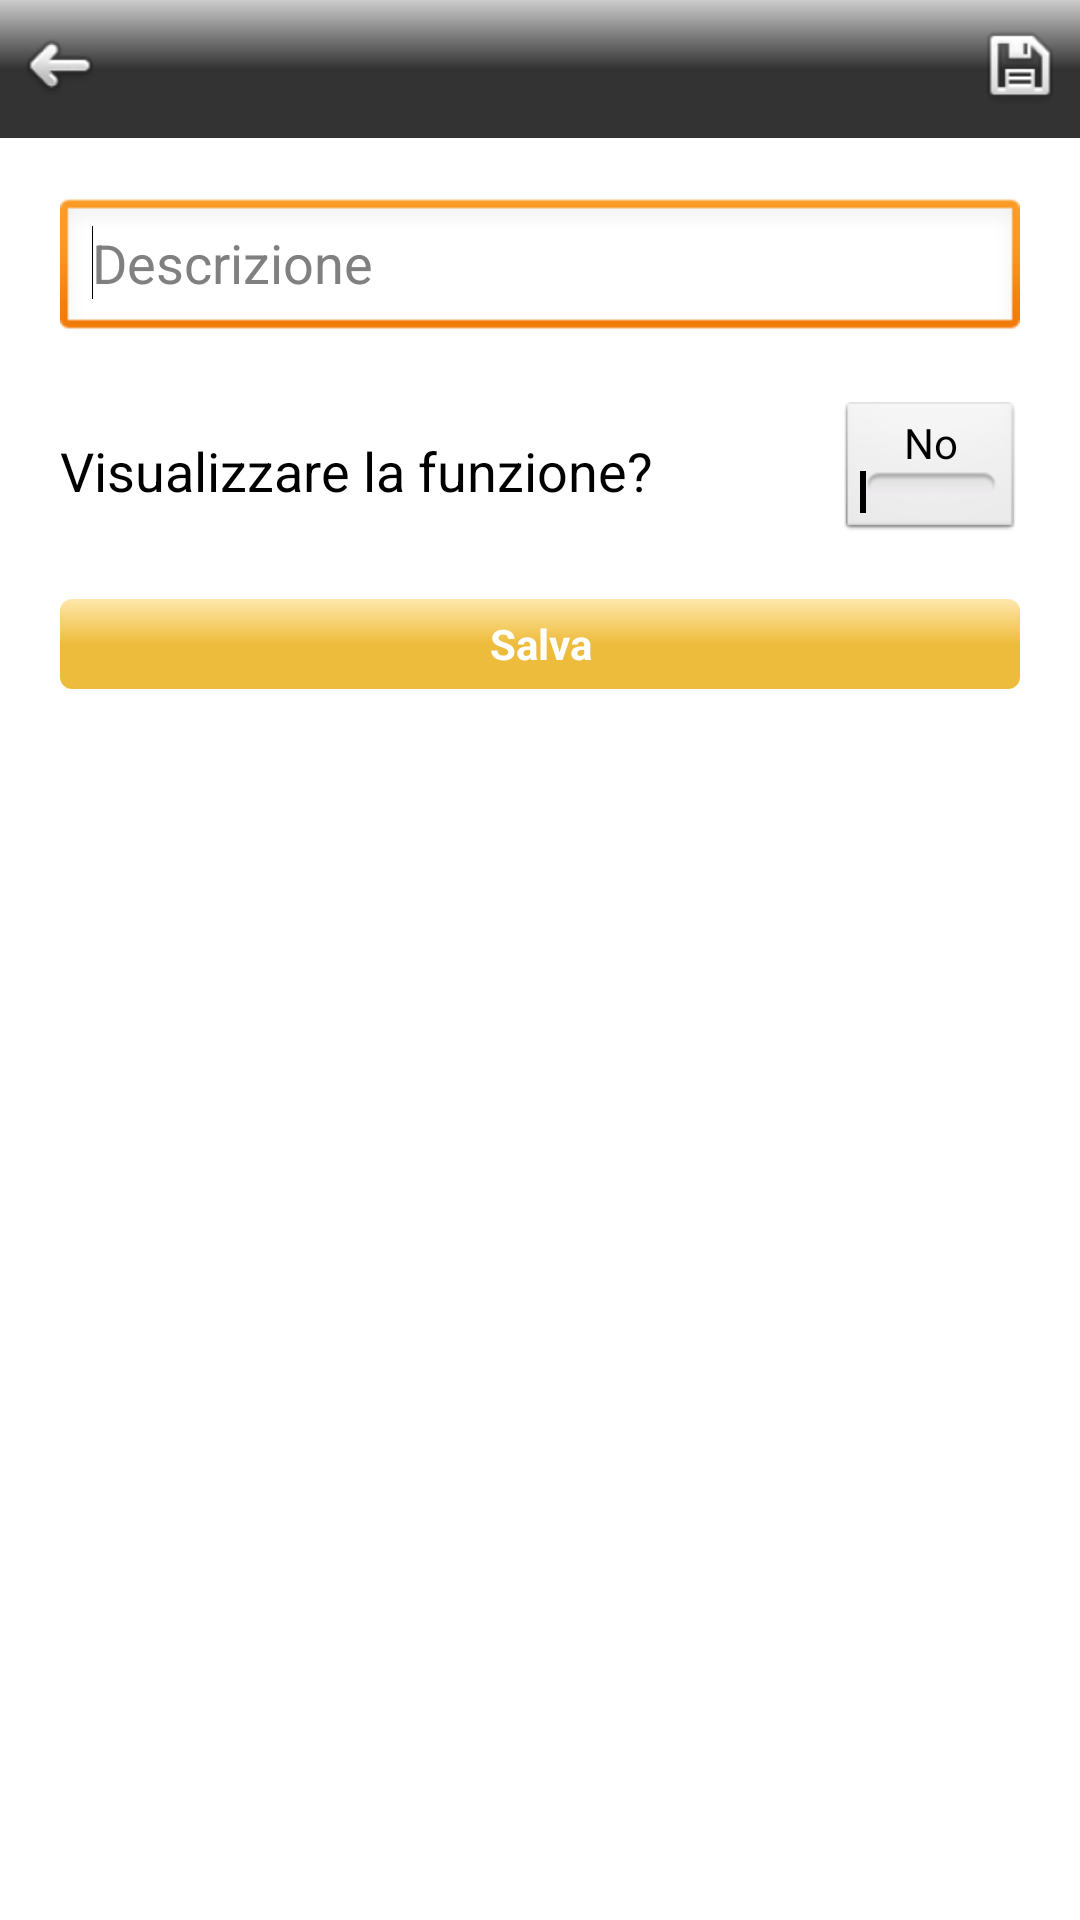

Where to tap for icons on this 1080 x 1920 app screen, as (x,y):
Indietro: (60,69)
Salva: (1020,69)
